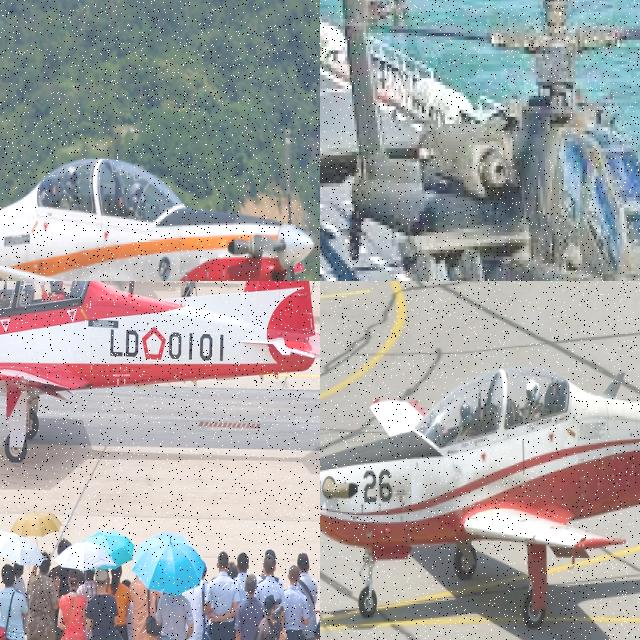Apache: (320, 0, 640, 281)
KT-1: (320, 281, 640, 619), (0, 88, 311, 281), (0, 281, 320, 462)
